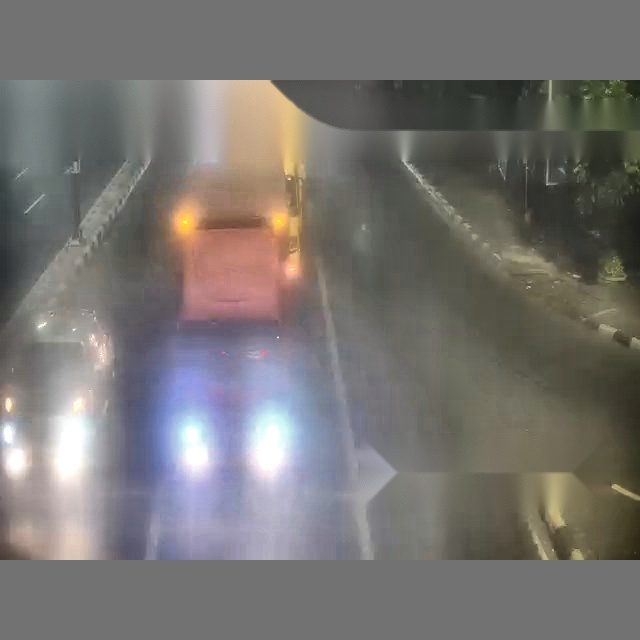Truk: (170, 78, 310, 324)
